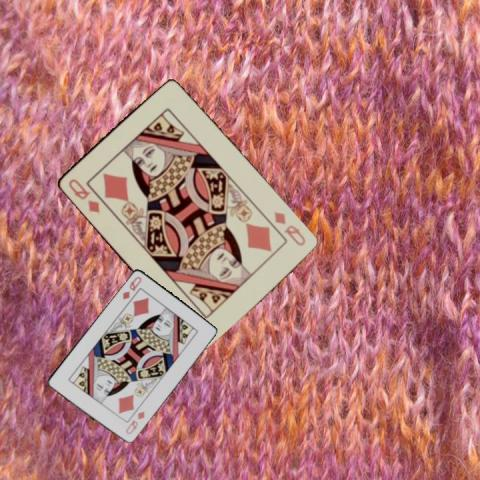Qd: (64, 175, 101, 215), (270, 209, 306, 247), (119, 272, 143, 300), (123, 408, 146, 435)
